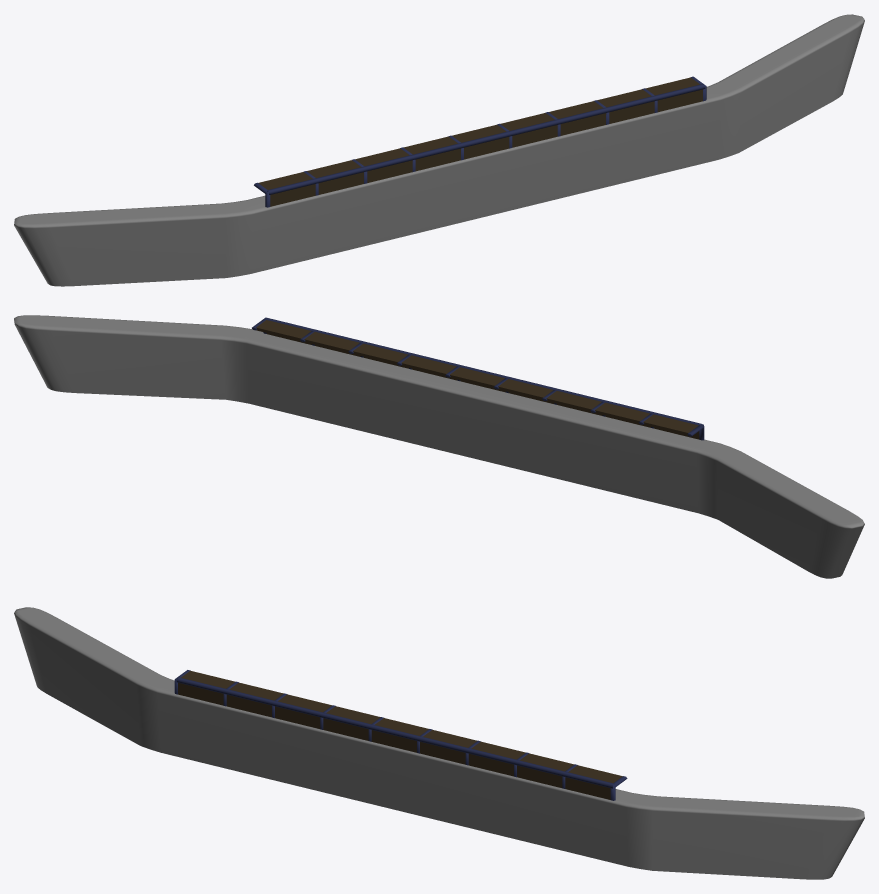
Rendered from SM_Hall_trading_shelter_big.fbx.
The picture shows the model from 3 angles, top to bottom: view 1: azimuth 30°, elevation 25°; view 2: azimuth 150°, elevation 25°; view 3: azimuth 330°, elevation 25°; orthographic projection.
Parts seen in each view (by area): view 1: SM_Hall_trading_shelter_big; view 2: SM_Hall_trading_shelter_big; view 3: SM_Hall_trading_shelter_big.
Part boxes in pixels (box(x1,y1,x2,y2)): SM_Hall_trading_shelter_big: box(14, 14, 864, 286); SM_Hall_trading_shelter_big: box(14, 315, 864, 578); SM_Hall_trading_shelter_big: box(14, 607, 864, 879).
Bounding box in the file's own units: 1337 × 120 × 150.
